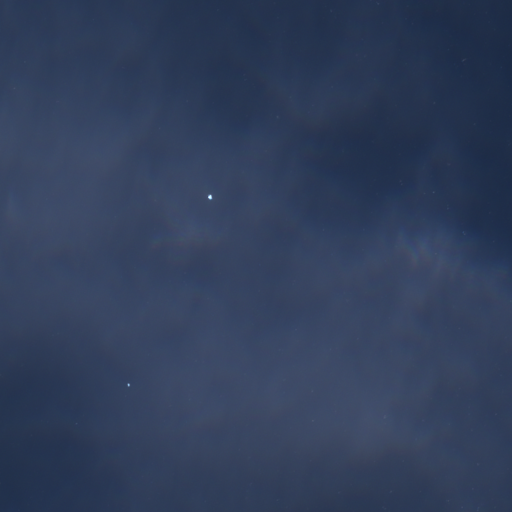Iceberg: (208, 194, 212, 199), (127, 383, 129, 386)
